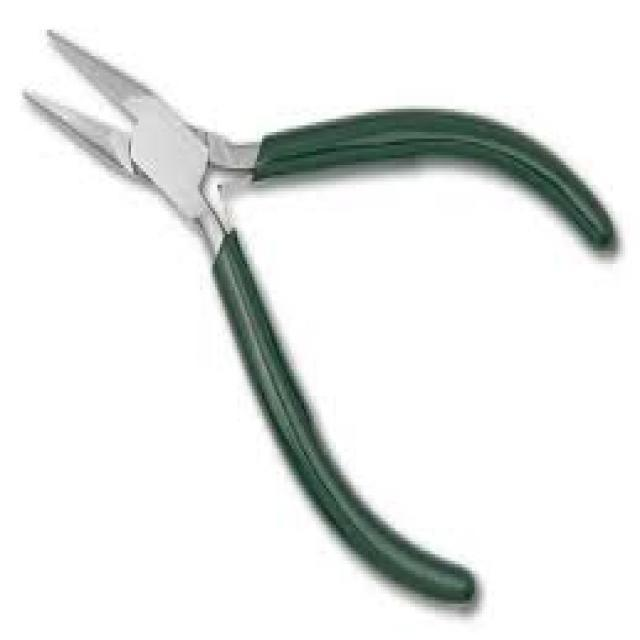pliers: (19, 24, 614, 604)
